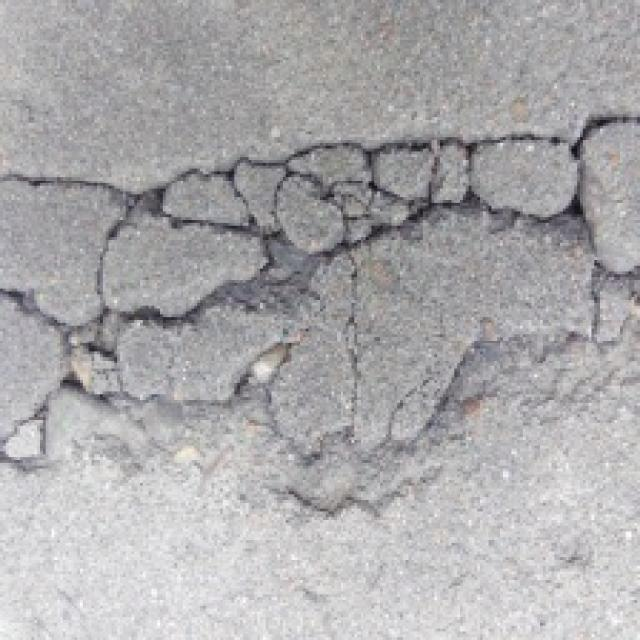crack: (0, 116, 640, 496)
